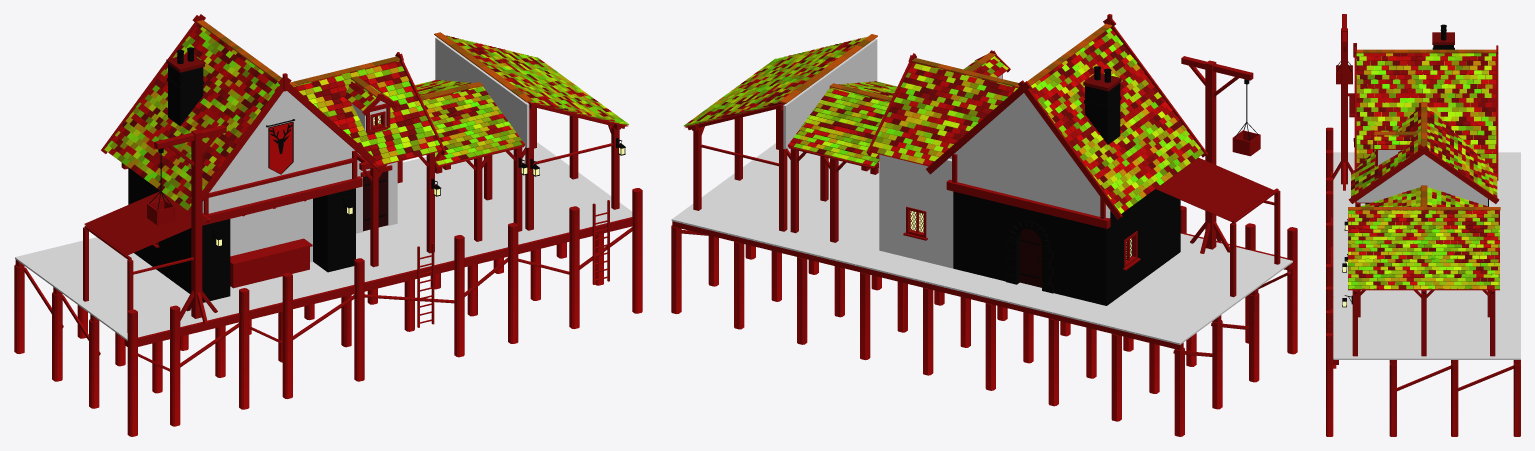
The model's file is SilverbrookFishermansWharf.fbx.
3 views of the same model, side by side, from view 1: azimuth 30°, elevation 25°; view 2: azimuth 150°, elevation 25°; view 3: azimuth 270°, elevation 25° (orthographic). The views are drawn at different scales.
Parts seen in each view (by area): view 1: SM_SBFishermansWharf_Timber, SM_SBFishermansWharf_Roof, SM_SBFishermansWharf_Deck, SM_SBFishermansWharf_Boards, SM_SBFishermansWharf_Masonry, SM_SBFishermansWharf_Details; view 2: SM_SBFishermansWharf_Timber, SM_SBFishermansWharf_Roof, SM_SBFishermansWharf_Deck, SM_SBFishermansWharf_Boards, SM_SBFishermansWharf_Masonry, SM_SBFishermansWharf_Details; view 3: SM_SBFishermansWharf_Roof, SM_SBFishermansWharf_Deck, SM_SBFishermansWharf_Timber, SM_SBFishermansWharf_Boards, SM_SBFishermansWharf_Details, SM_SBFishermansWharf_Masonry.
Part boxes in pixels (bbox=[...]): SM_SBFishermansWharf_Timber: bbox=[14, 14, 642, 436]; SM_SBFishermansWharf_Roof: bbox=[104, 20, 628, 210]; SM_SBFishermansWharf_Deck: bbox=[15, 142, 632, 340]; SM_SBFishermansWharf_Boards: bbox=[202, 37, 529, 262]; SM_SBFishermansWharf_Masonry: bbox=[128, 54, 355, 302]; SM_SBFishermansWharf_Details: bbox=[84, 47, 625, 255]; SM_SBFishermansWharf_Timber: bbox=[671, 14, 1297, 436]; SM_SBFishermansWharf_Roof: bbox=[684, 23, 1203, 213]; SM_SBFishermansWharf_Deck: bbox=[671, 143, 1292, 344]; SM_SBFishermansWharf_Boards: bbox=[783, 38, 1110, 268]; SM_SBFishermansWharf_Masonry: bbox=[953, 73, 1180, 305]; SM_SBFishermansWharf_Details: bbox=[910, 66, 1274, 287]; SM_SBFishermansWharf_Roof: bbox=[1348, 49, 1500, 290]; SM_SBFishermansWharf_Deck: bbox=[1333, 152, 1520, 359]; SM_SBFishermansWharf_Timber: bbox=[1326, 14, 1520, 436]; SM_SBFishermansWharf_Boards: bbox=[1356, 150, 1487, 206]; SM_SBFishermansWharf_Details: bbox=[1336, 24, 1446, 307]; SM_SBFishermansWharf_Masonry: bbox=[1365, 32, 1488, 206].
Bounding box in the file's own units: 2000 × 1150 × 795.
